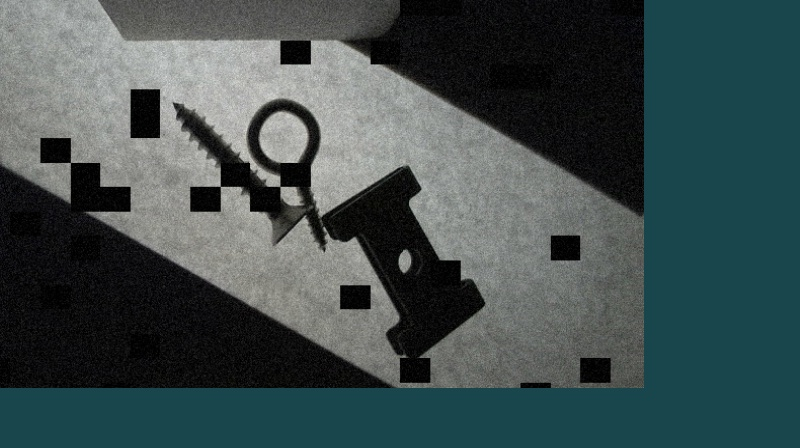O001: (244, 93, 325, 251)
O002: (321, 164, 488, 362)
S001: (171, 99, 310, 246)
